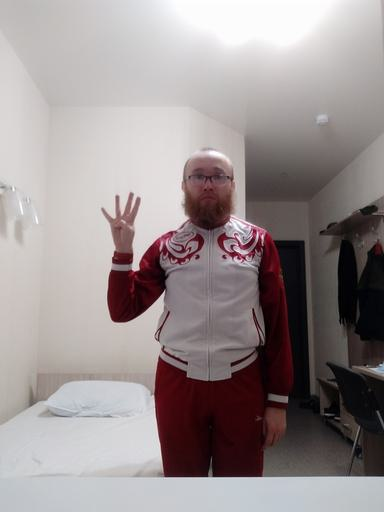four: (99, 191, 143, 250)
